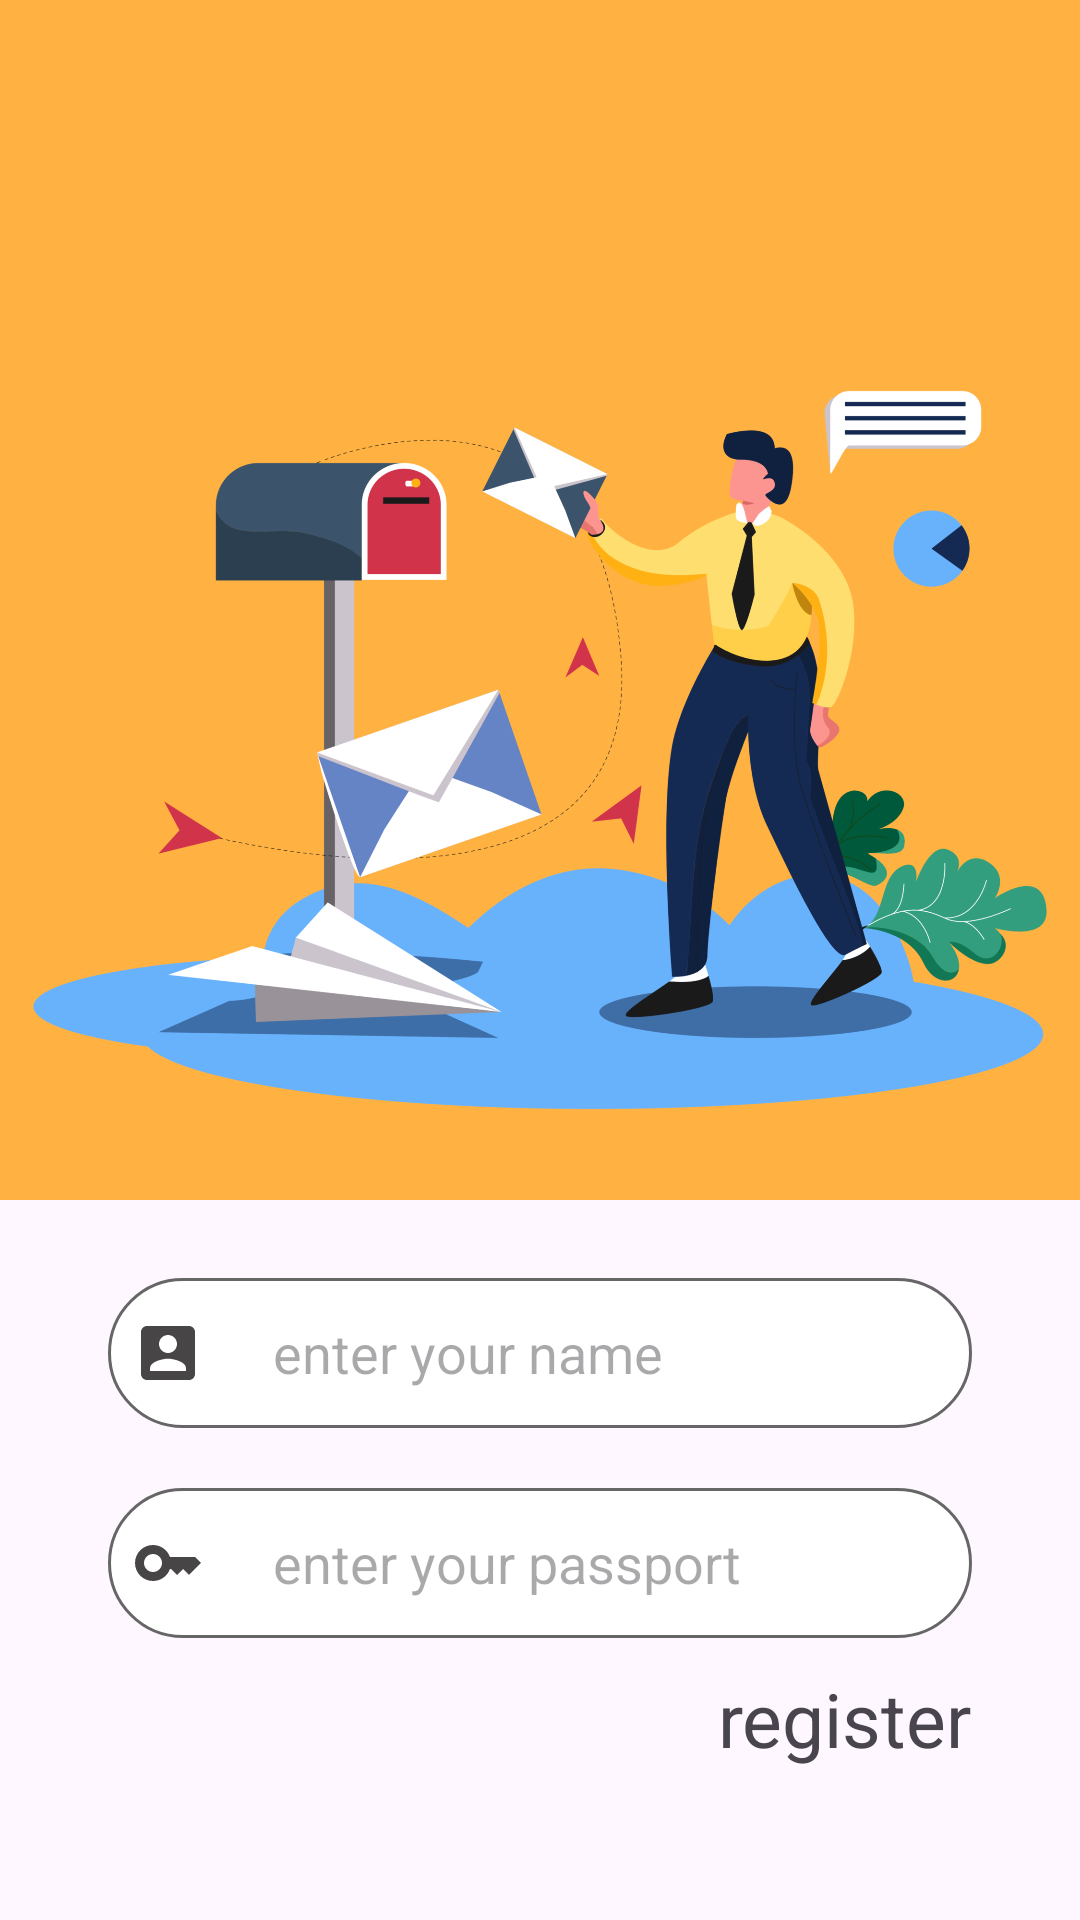

Where to tap for icons on this 1080 x 1920 app screen, as (x,y):
account box: (168,1353)
key: (168,1563)
